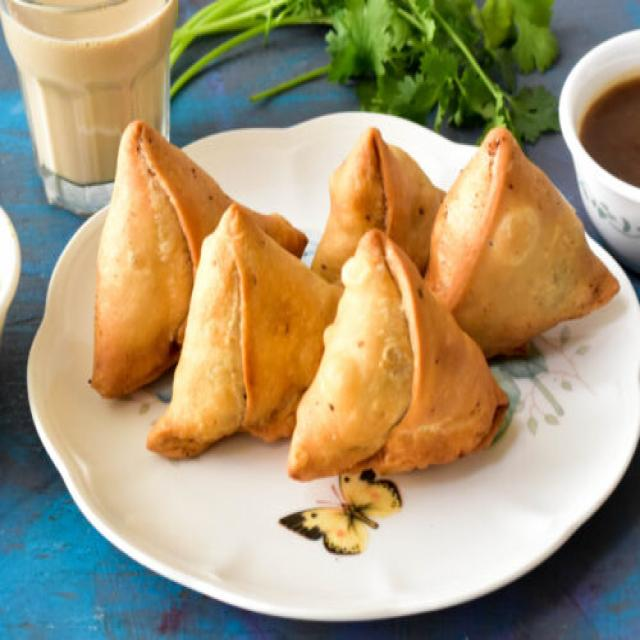SAMOSA: (289, 230, 506, 480), (148, 203, 340, 457), (425, 128, 617, 357), (92, 121, 232, 396), (311, 128, 444, 283), (241, 207, 306, 256)
